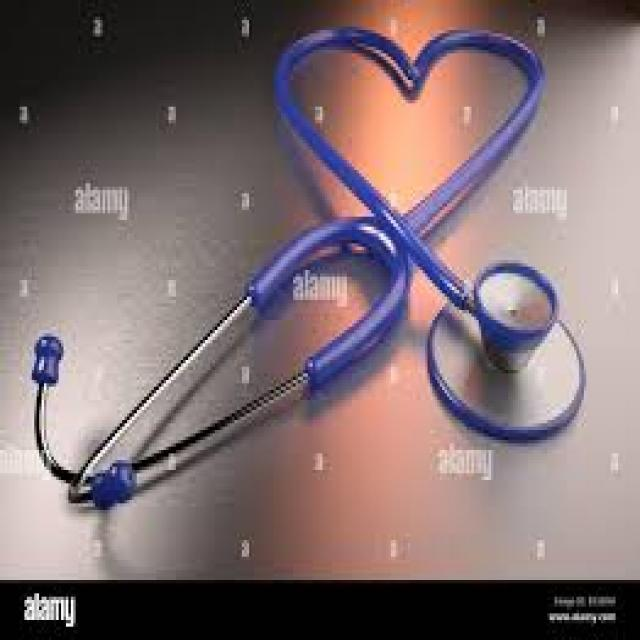stethoscope: (150, 19, 608, 491)
